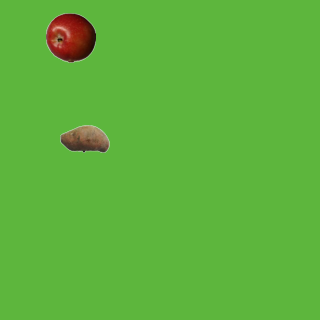Apple Braeburn: (45, 12, 95, 62)
Potato Sweet: (59, 113, 109, 163)
